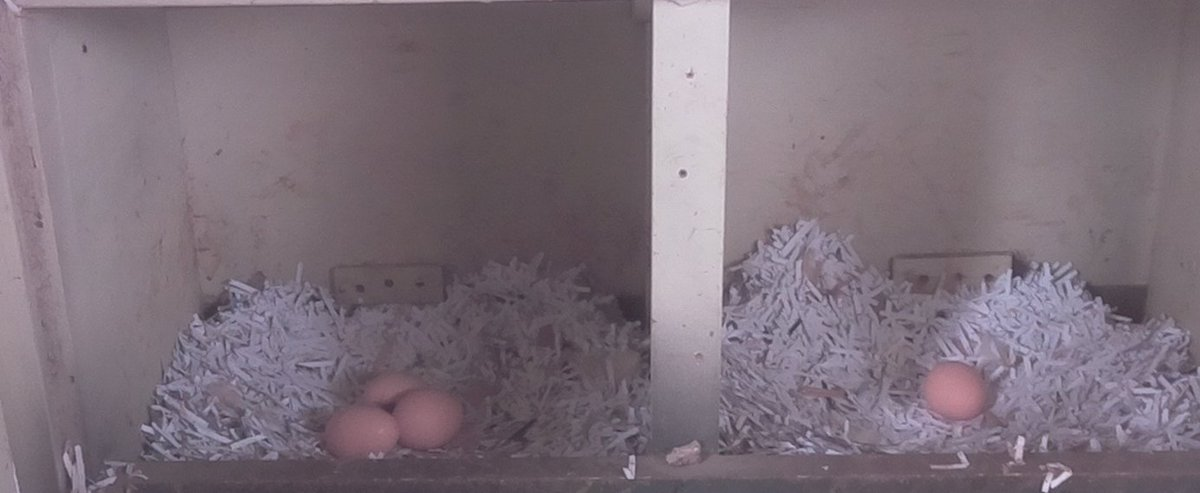egg: (389, 387, 475, 455), (321, 400, 404, 465), (917, 357, 994, 427), (356, 366, 431, 409)
